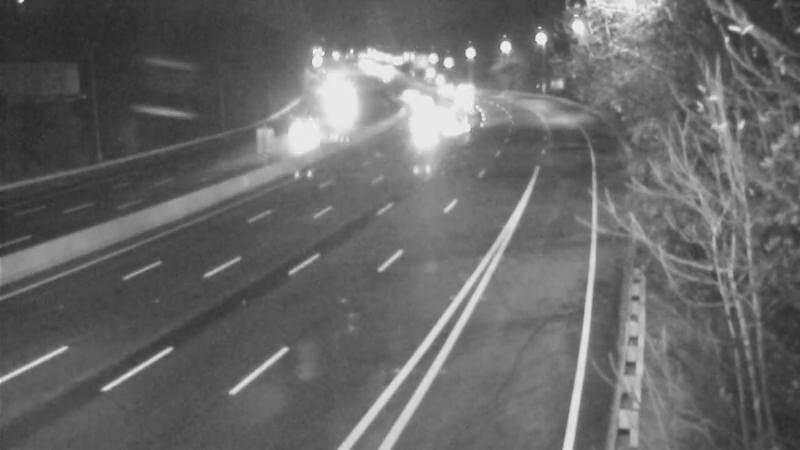vehicle: (416, 64, 466, 114), (444, 63, 494, 113), (378, 68, 428, 118), (437, 74, 487, 124), (394, 75, 444, 125), (433, 88, 483, 138), (412, 99, 462, 149), (394, 101, 444, 151), (279, 105, 329, 155)
